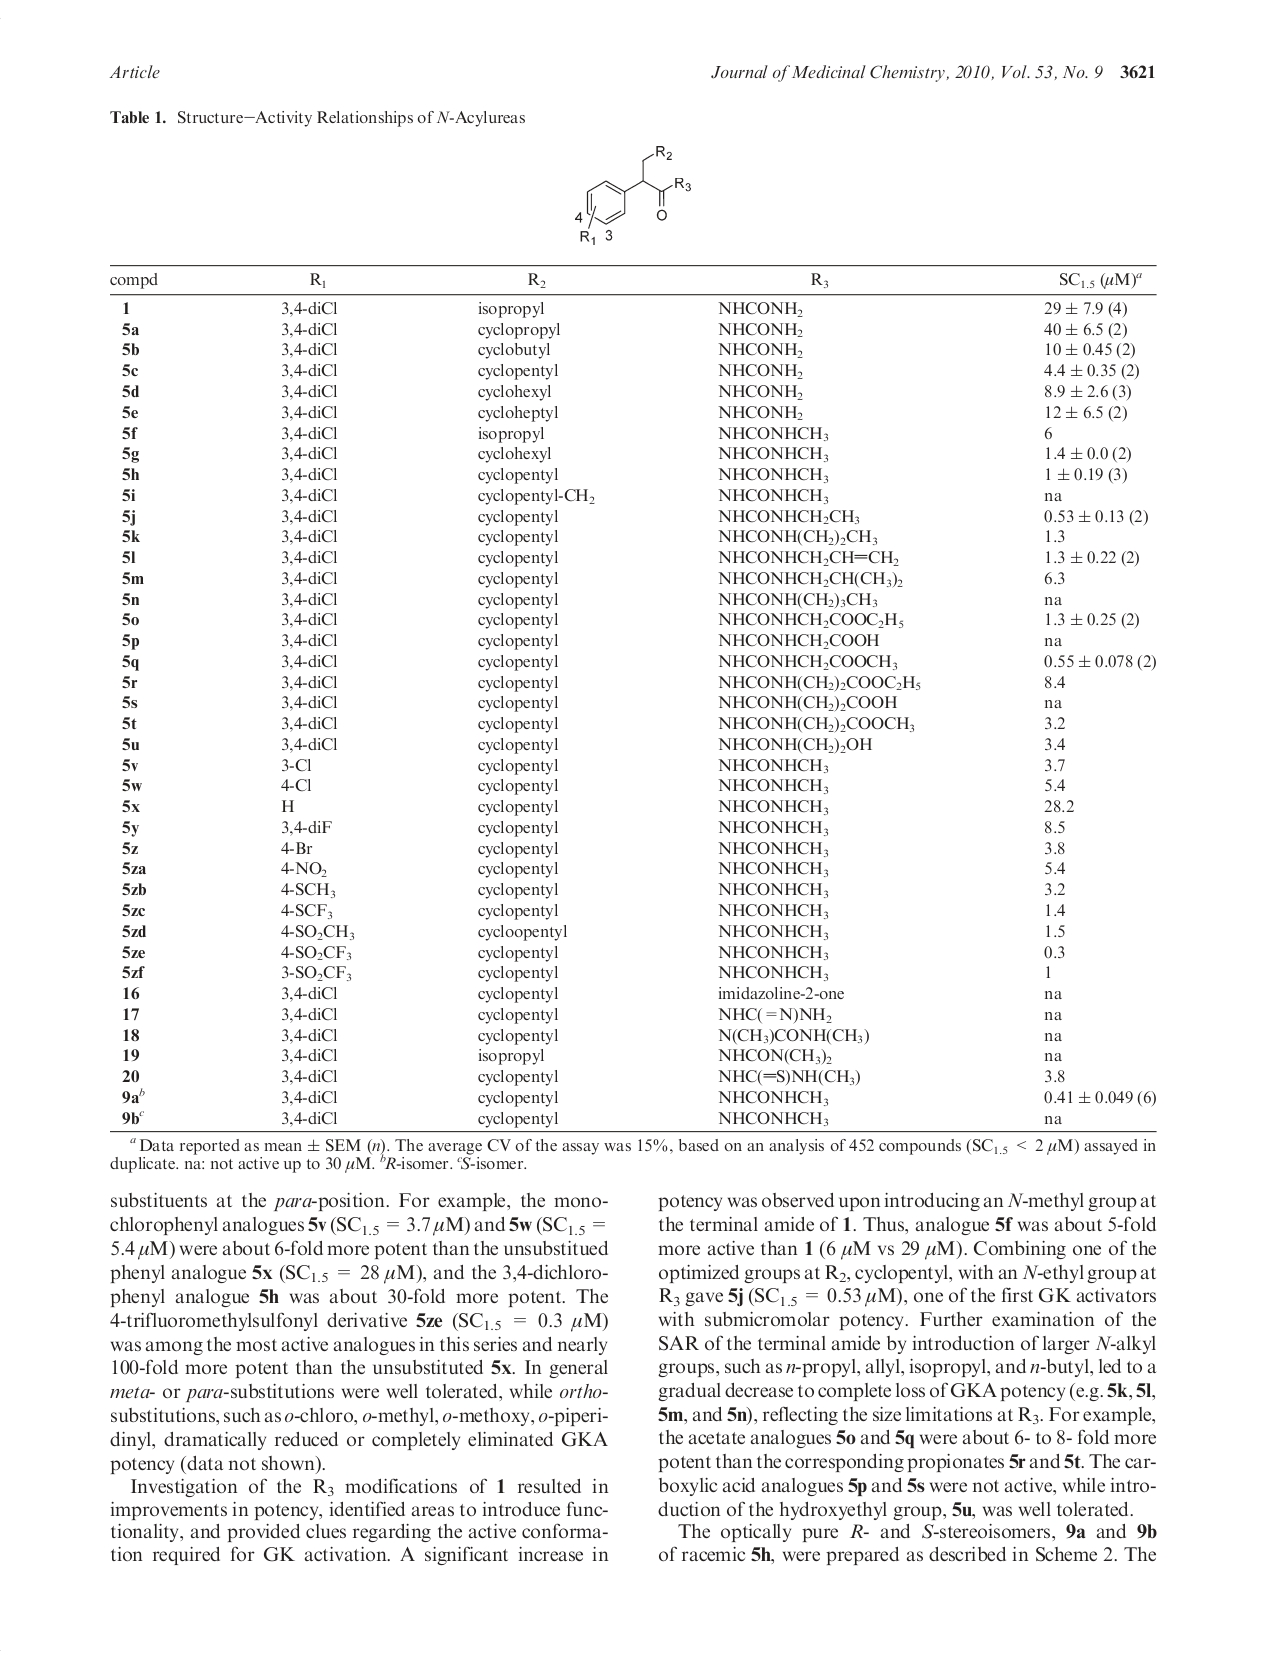exist_molecular: (576, 142, 699, 251)
